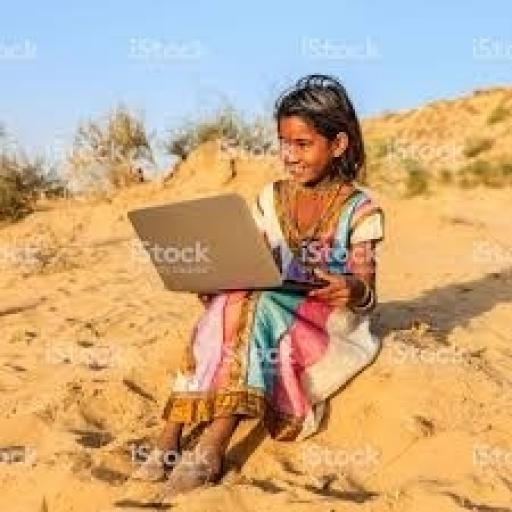using_laptop: (125, 189, 328, 296)
